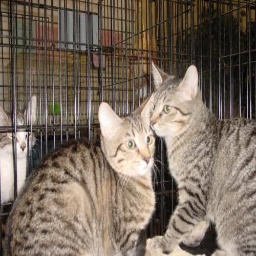cat: (9, 56, 256, 256)
